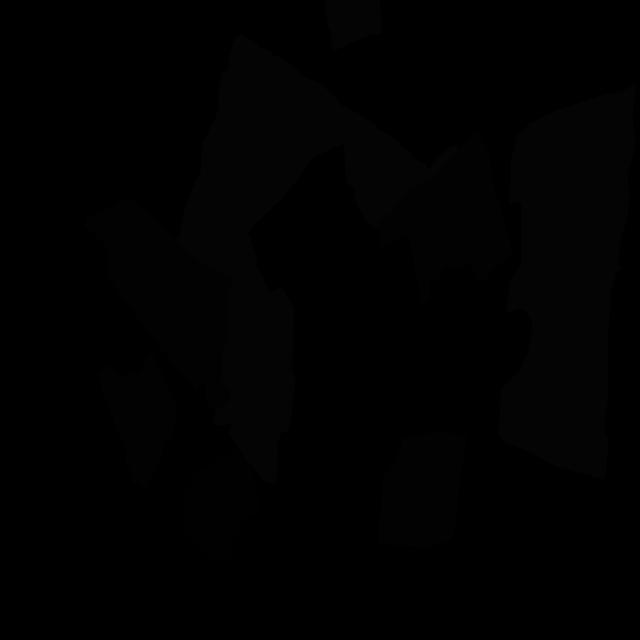cardboard: (83, 199, 233, 411), (378, 130, 514, 304), (97, 353, 177, 489), (378, 432, 468, 547)
rigid_plastic: (181, 447, 260, 562)
soft_plastic: (175, 33, 459, 277), (498, 83, 636, 480), (213, 231, 296, 485), (325, 0, 383, 51)
